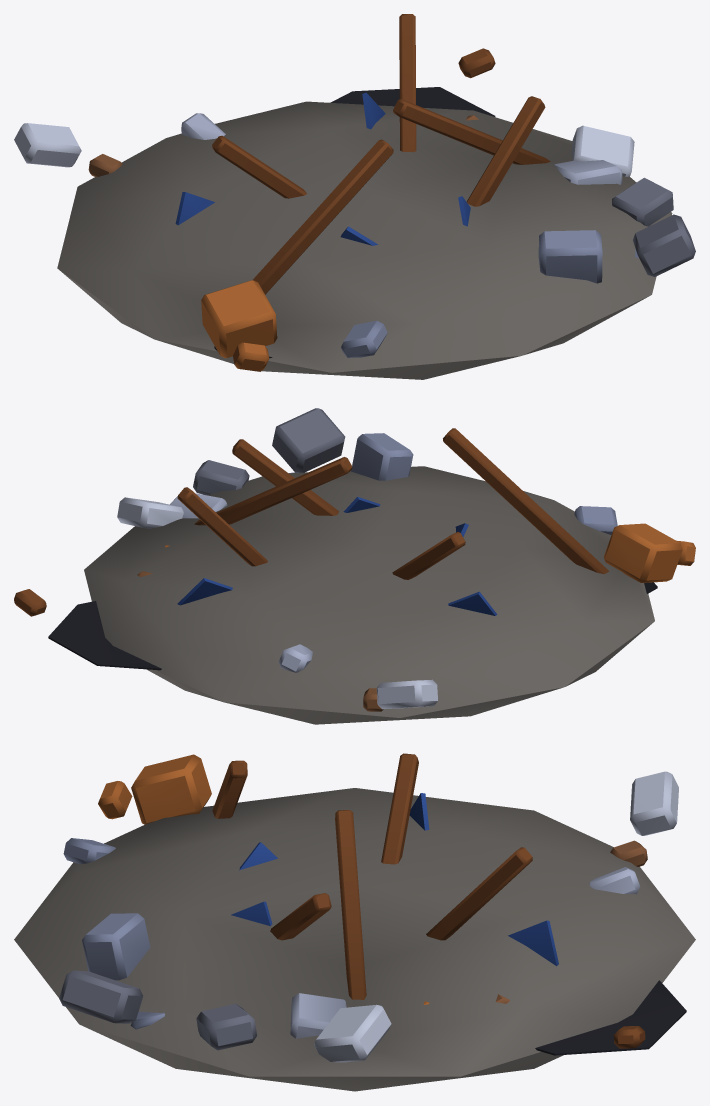
File: b_rubble_4.glb
3 renders of one model, top to bottom at view 1: azimuth 30°, elevation 25°; view 2: azimuth 150°, elevation 25°; view 3: azimuth 270°, elevation 25°, orthographic. The views are drawn at different scales.
Parts seen in each view (by area): view 1: body; view 2: body; view 3: body.
Part boxes in pixels (bbox=[...]): body: bbox=[14, 14, 695, 379]; body: bbox=[14, 408, 695, 724]; body: bbox=[14, 753, 695, 1091].
Size of the model in its own units: 6.71 by 2.41 by 6.93.
